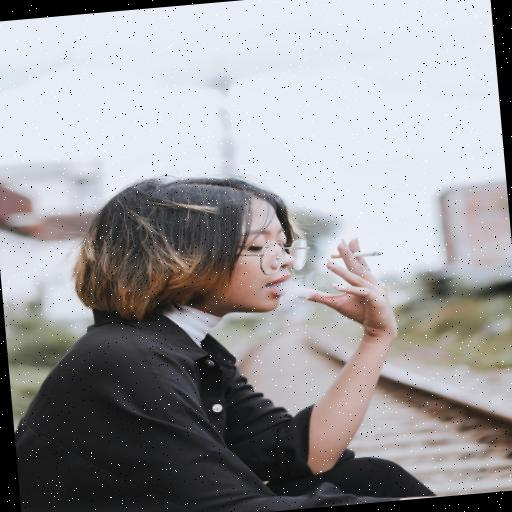terdeteksi pegang rokok: (313, 221, 412, 322)
